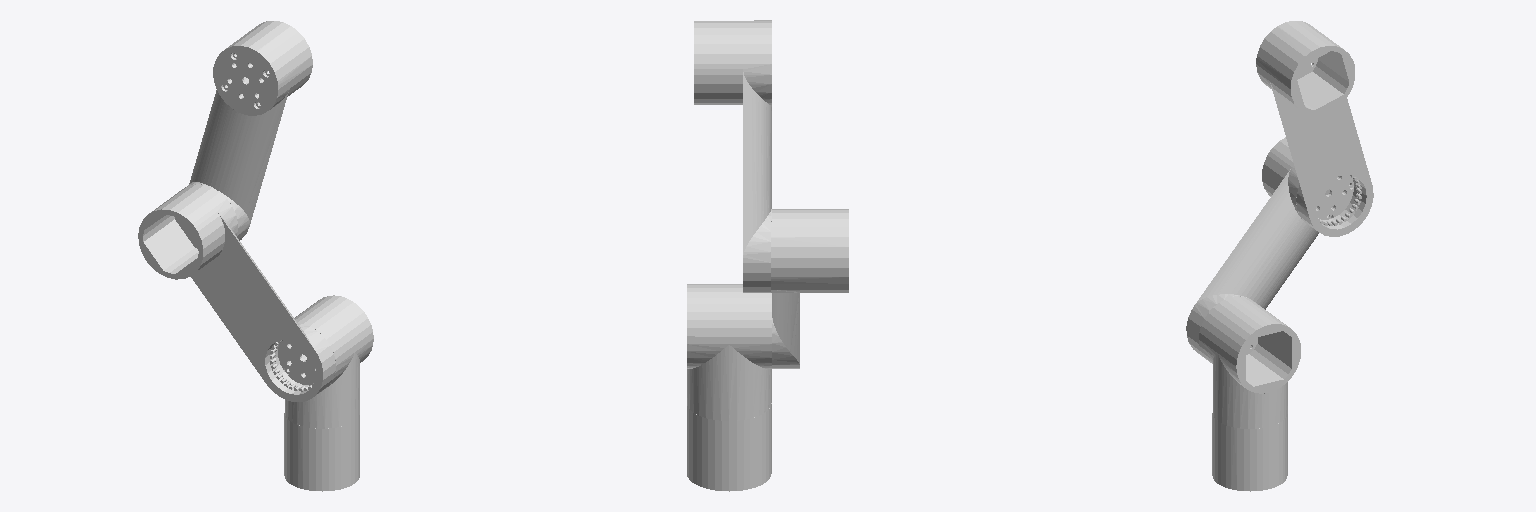
URDF robot description (arm-v2):
<?xml version="1.0" encoding="utf-8"?>
<!-- This URDF was automatically created by SolidWorks to URDF Exporter! Originally created by Stephen Brawner (brawner@gmail.com) 
     Commit Version: 1.6.0-4-g7f85cfe  Build Version: 1.6.7995.38578
     For more information, please see http://wiki.ros.org/sw_urdf_exporter -->
<robot
  name="arm-v2">
  <link
    name="base_link">
    <inertial>
      <origin
        xyz="2.3661E-18 -3.6362E-18 -0.019937"
        rpy="0 0 0" />
      <mass
        value="0.067122" />
      <inertia
        ixx="4.1725E-05"
        ixy="-7.2378E-22"
        ixz="1.0274E-21"
        iyy="4.1725E-05"
        iyz="5.9885E-21"
        izz="4.5278E-05" />
    </inertial>
    <visual>
      <origin
        xyz="0 0 0"
        rpy="0 0 0" />
      <geometry>
        <mesh
          filename="meshes/base_link.STL" />
      </geometry>
      <material
        name="">
        <color
          rgba="0.89412 0.89412 0.89412 1" />
      </material>
    </visual>
    <collision>
      <origin
        xyz="0 0 0"
        rpy="0 0 0" />
      <geometry>
        <mesh
          filename="meshes/base_link.STL" />
      </geometry>
    </collision>
  </link>
  <link
    name="rotary-joint">
    <inertial>
      <origin
        xyz="0.0014279 0.0008236 0.038018"
        rpy="0 0 0" />
      <mass
        value="0.11473" />
      <inertia
        ixx="0.00011561"
        ixy="1.4842E-06"
        ixz="-2.4545E-06"
        iyy="0.00011389"
        iyz="-1.4158E-06"
        izz="7.9819E-05" />
    </inertial>
    <visual>
      <origin
        xyz="0 0 0"
        rpy="0 0 0" />
      <geometry>
        <mesh
          filename="meshes/rotary-joint.STL" />
      </geometry>
      <material
        name="">
        <color
          rgba="0.89412 0.89412 0.89412 1" />
      </material>
    </visual>
    <collision>
      <origin
        xyz="0 0 0"
        rpy="0 0 0" />
      <geometry>
        <mesh
          filename="meshes/rotary-joint.STL" />
      </geometry>
    </collision>
  </link>
  <joint
    name="base-rotary"
    type="revolute">
    <origin
      xyz="0 0 0.012"
      rpy="0 0 -3.1416" />
    <parent
      link="base_link" />
    <child
      link="rotary-joint" />
    <axis
      xyz="0 0 1" />
    <limit
      lower="0"
      upper="0"
      effort="0"
      velocity="0" />
  </joint>
  <link
    name="shoulder-joint">
    <inertial>
      <origin
        xyz="-0.057192 0.064325 0.010049"
        rpy="0 0 0" />
      <mass
        value="0.16216" />
      <inertia
        ixx="0.00029011"
        ixy="0.00019077"
        ixz="3.1107E-05"
        iyy="0.00024562"
        iyz="-3.4944E-05"
        izz="0.00047777" />
    </inertial>
    <visual>
      <origin
        xyz="0 0 0"
        rpy="0 0 0" />
      <geometry>
        <mesh
          filename="meshes/shoulder-joint.STL" />
      </geometry>
      <material
        name="">
        <color
          rgba="0.89412 0.89412 0.89412 1" />
      </material>
    </visual>
    <collision>
      <origin
        xyz="0 0 0"
        rpy="0 0 0" />
      <geometry>
        <mesh
          filename="meshes/shoulder-joint.STL" />
      </geometry>
    </collision>
  </link>
  <joint
    name="shoulder"
    type="revolute">
    <origin
      xyz="0.031972 0.018624 0.052745"
      rpy="1.5708 0 2.094" />
    <parent
      link="rotary-joint" />
    <child
      link="shoulder-joint" />
    <axis
      xyz="0 0 1" />
    <limit
      lower="0"
      upper="0"
      effort="0"
      velocity="0" />
  </joint>
  <link
    name="elbow-joint">
    <inertial>
      <origin
        xyz="0.023437 -0.082514 0.010049"
        rpy="0 0 0" />
      <mass
        value="0.16216" />
      <inertia
        ixx="0.00043125"
        ixy="0.00010096"
        ixz="-1.2783E-05"
        iyy="0.00010448"
        iyz="4.5004E-05"
        izz="0.00047777" />
    </inertial>
    <visual>
      <origin
        xyz="0 0 0"
        rpy="0 0 0" />
      <geometry>
        <mesh
          filename="meshes/elbow-joint.STL" />
      </geometry>
      <material
        name="">
        <color
          rgba="0.89412 0.89412 0.89412 1" />
      </material>
    </visual>
    <collision>
      <origin
        xyz="0 0 0"
        rpy="0 0 0" />
      <geometry>
        <mesh
          filename="meshes/elbow-joint.STL" />
      </geometry>
    </collision>
  </link>
  <joint
    name="elbow"
    type="revolute">
    <origin
      xyz="-0.08992 0.10109 -0.014"
      rpy="-3.1416 0 0" />
    <parent
      link="shoulder-joint" />
    <child
      link="elbow-joint" />
    <axis
      xyz="0 0 1" />
    <limit
      lower="0"
      upper="0"
      effort="0"
      velocity="0" />
  </joint>
</robot>

--- What the picture shows (computed from the rendered views, not written in the file) ---
The picture shows the robot from 3 angles, left to right: view 1: azimuth 30°, elevation 25°; view 2: azimuth 150°, elevation 25°; view 3: azimuth 270°, elevation 25°; orthographic projection.
Robot: arm-v2 — 4 links, 3 joints (3 revolute); root link base_link; default pose: all joints at 0.
Links seen in each view (by area): view 1: shoulder-joint, elbow-joint, rotary-joint, base_link; view 2: elbow-joint, rotary-joint, shoulder-joint, base_link; view 3: elbow-joint, shoulder-joint, rotary-joint, base_link.
Link boxes in pixels (x1,y1,x2,y2): shoulder-joint: (138, 184, 335, 401); elbow-joint: (185, 21, 312, 240); rotary-joint: (278, 295, 373, 428); base_link: (284, 413, 359, 491); elbow-joint: (694, 20, 771, 292); rotary-joint: (687, 284, 771, 420); shoulder-joint: (771, 209, 848, 368); base_link: (687, 403, 771, 491); elbow-joint: (1256, 21, 1373, 236); shoulder-joint: (1186, 137, 1353, 359); rotary-joint: (1199, 296, 1300, 428); base_link: (1212, 413, 1287, 491).
Size in the robot's own frame: 0.1744 by 0.1495 by 0.3756 metres.
Meshes: 4 distinct files referenced, 4 mesh visuals loaded (4 binary STL).
